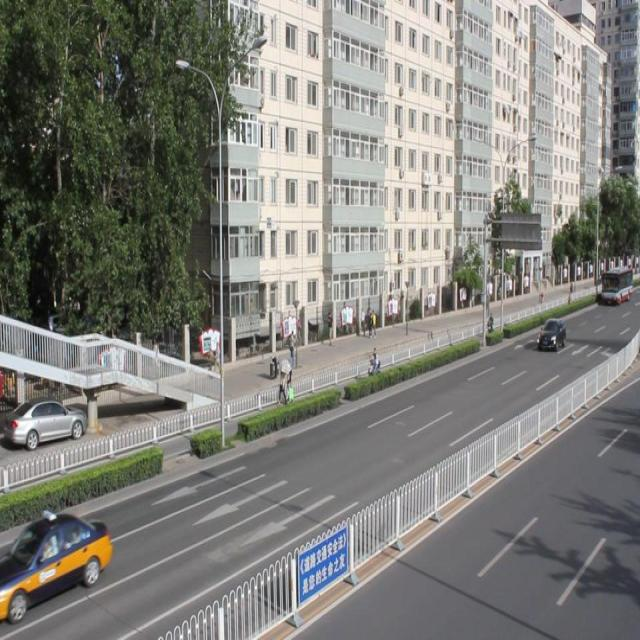car: (1, 513, 112, 609)
